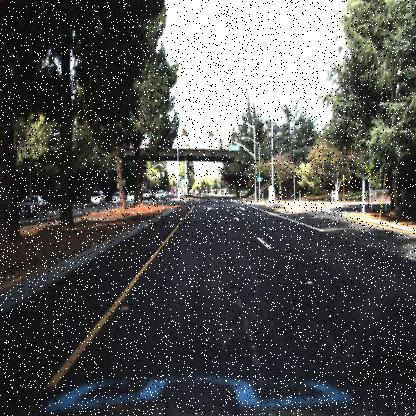car: (17, 195, 49, 220), (89, 187, 107, 208), (85, 188, 104, 207), (140, 188, 154, 204), (111, 190, 124, 206), (152, 188, 166, 202), (127, 192, 135, 203)
trafficLight-Yellow: (217, 138, 223, 159), (272, 156, 277, 172), (254, 165, 258, 180)
